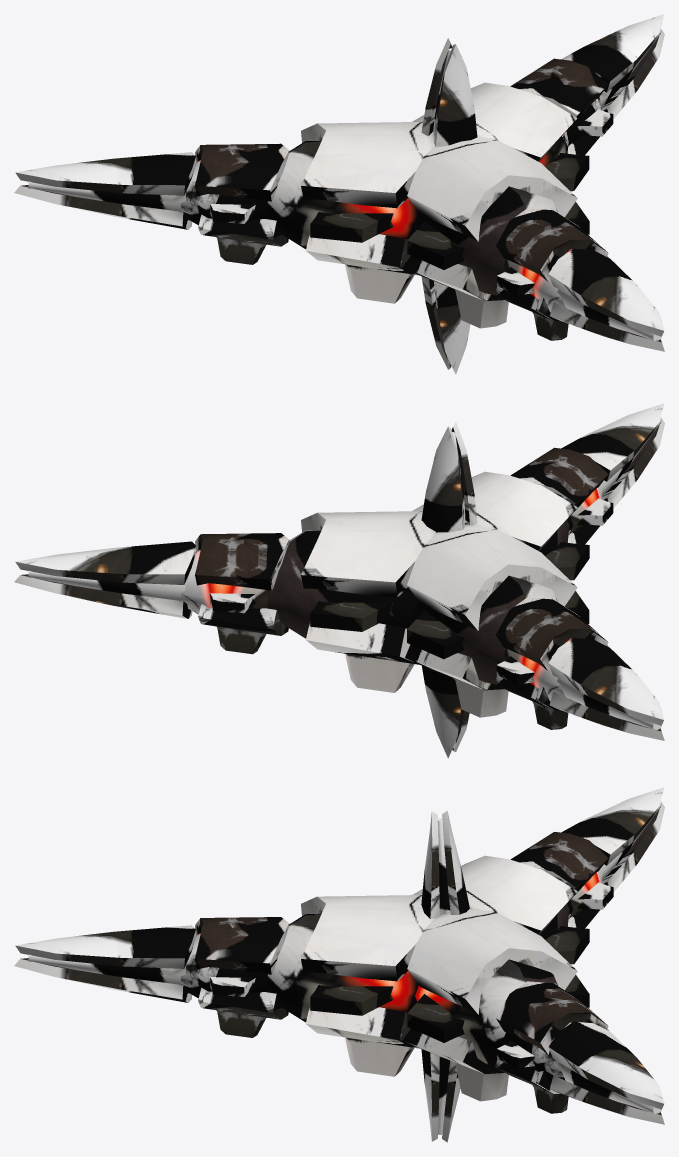
The model's file is Ralyeh_Station.fbx.
The picture shows the model from 3 angles, top to bottom: view 1: azimuth 30°, elevation 25°; view 2: azimuth 150°, elevation 25°; view 3: azimuth 270°, elevation 25°; orthographic projection.
Parts seen in each view (by area): view 1: Ralyeh_Station; view 2: Ralyeh_Station; view 3: Ralyeh_Station.
Part boxes in pixels (<box>): Ralyeh_Station: <box>14,14,664,374</box>; Ralyeh_Station: <box>14,403,664,758</box>; Ralyeh_Station: <box>14,787,664,1142</box>.
Bounding box in the file's own units: 926 × 452 × 802.
1 material, 1 textured.
